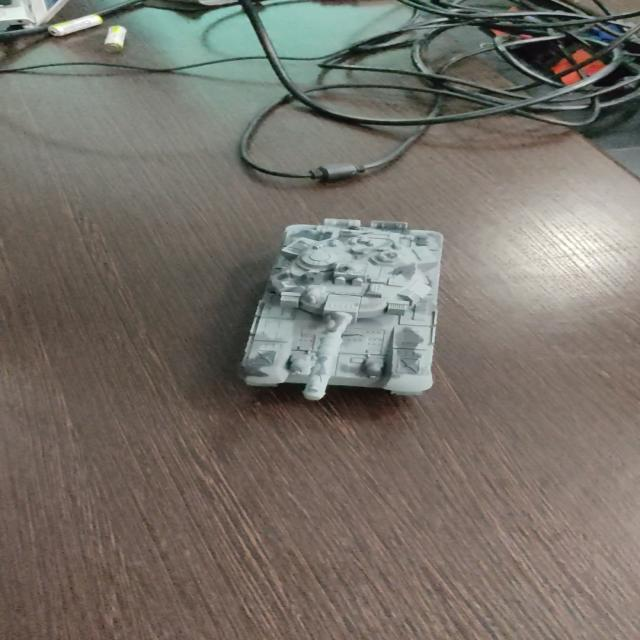tank: (234, 215, 441, 402)
